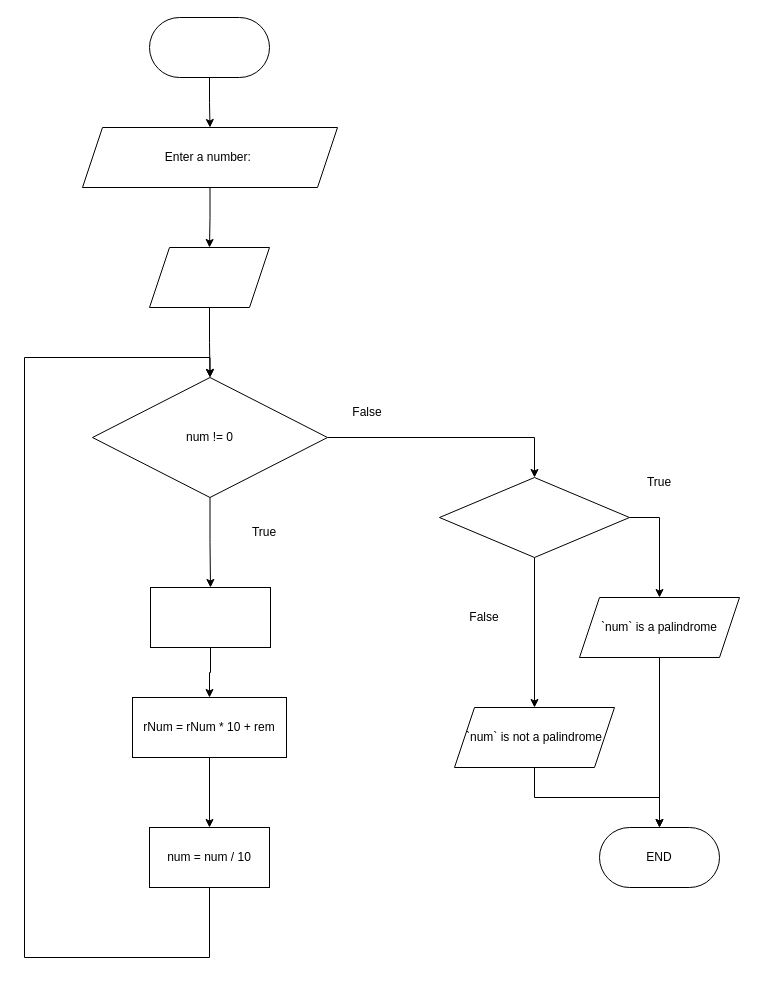
Some shapes in this 757 by 983 pixel diagram are drawn without their labels. Each missing label, with the centre of its shape:
Main: point 209,47
num: point 209,277
rem = num % 10: point 210,617
rNum == num: point 534,517
